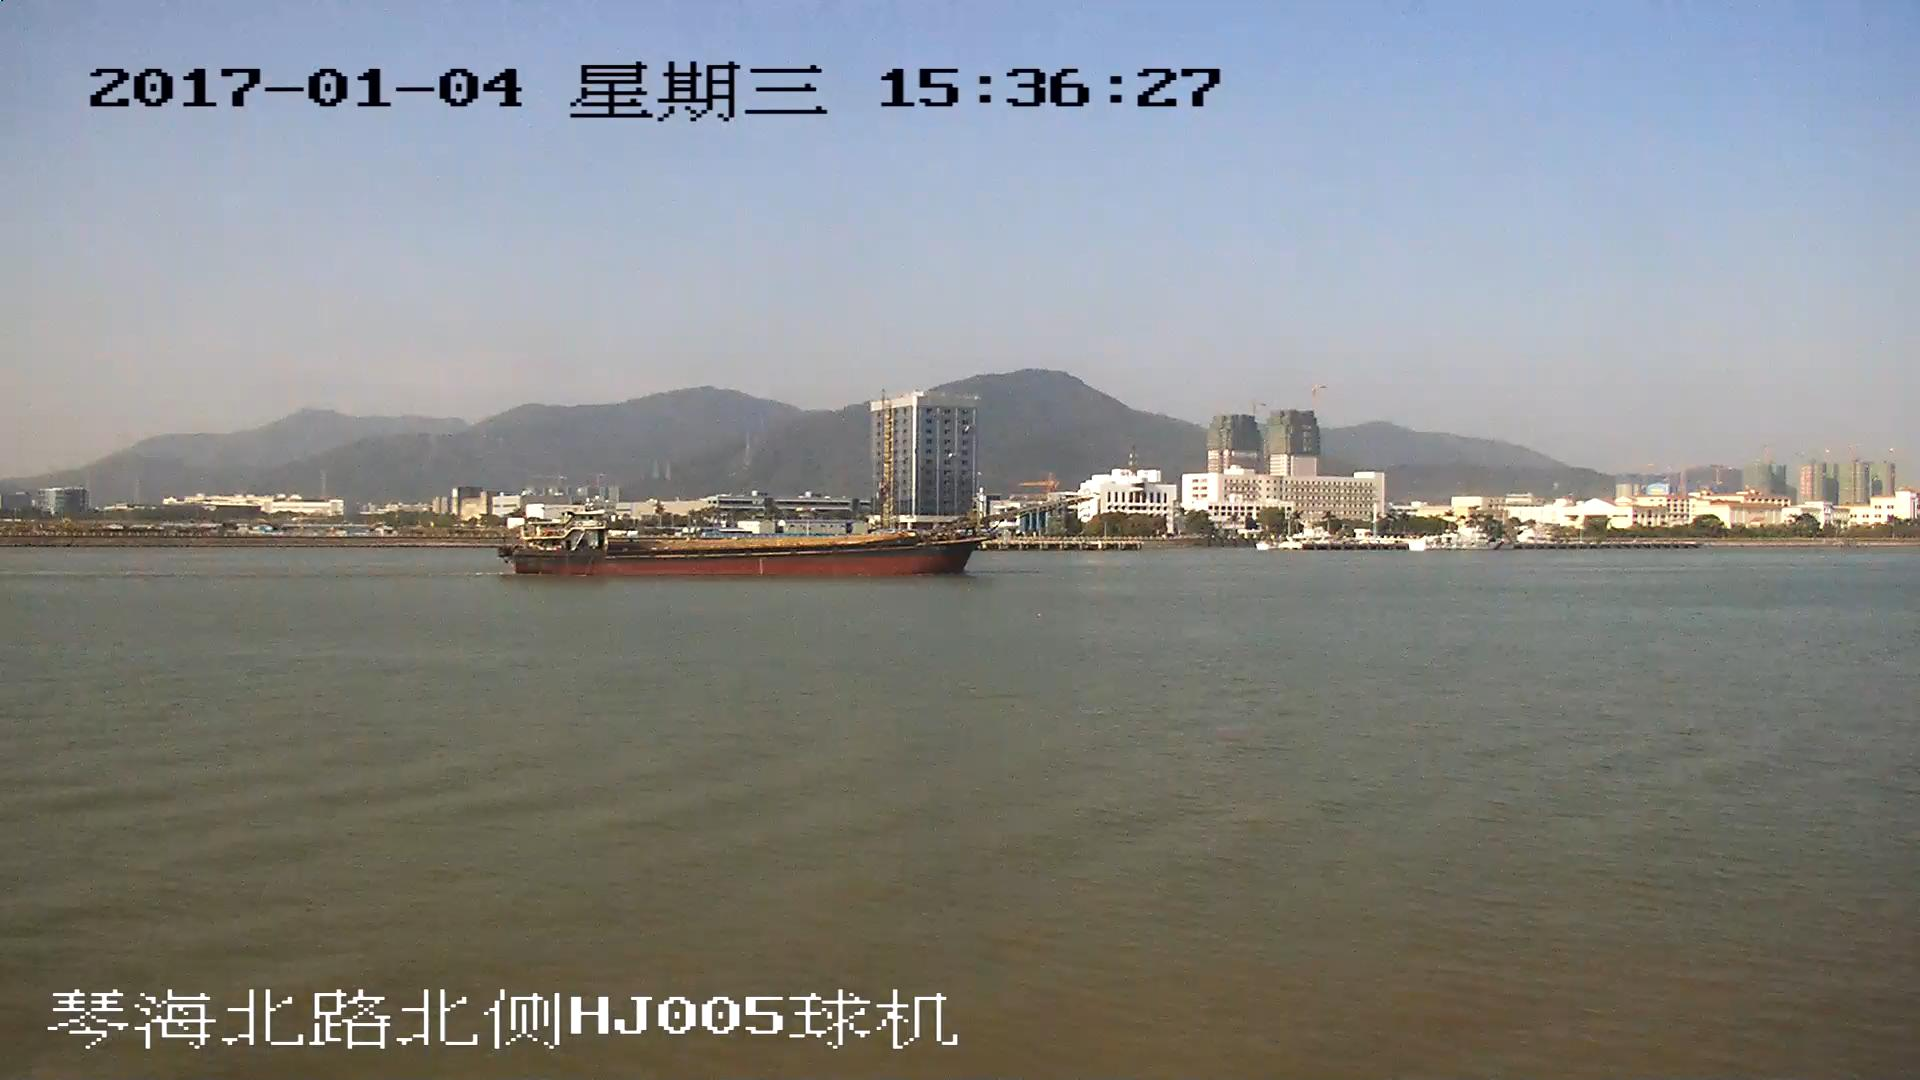bulk cargo carrier: (504, 495, 1091, 578)
